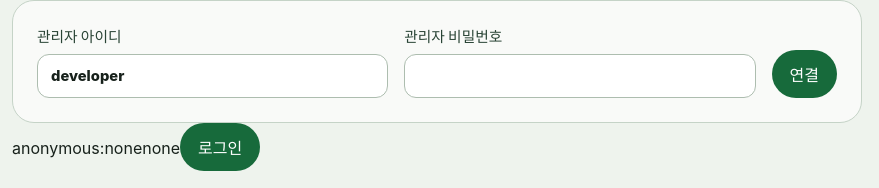
Test case: AdminAuthProvider › keeps Basic credentials only in the shared in-memory administrator session
Type "secret" into the password field labelled "관리자 비밀번호" at point(580, 76), box top-left (404, 54), bottom-right (756, 98)
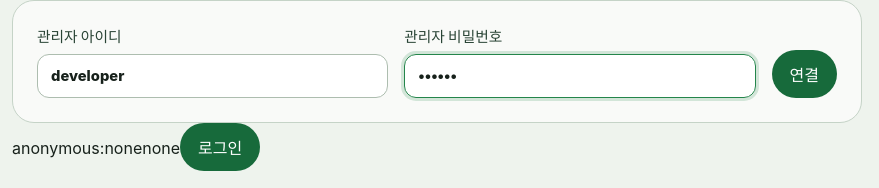
Click the button "연결" at point(804, 74), box top-left (772, 50), bottom-right (837, 98)
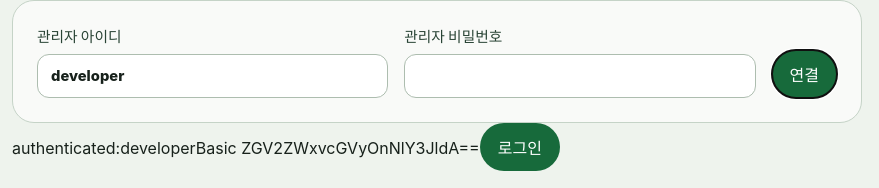
Expected: the text "authenticated:developer" is shown, top-left (12, 138), bottom-right (196, 158)
Expected: the text with test id "authorization" shows "Basic", top-left (196, 138), bottom-right (480, 158)
